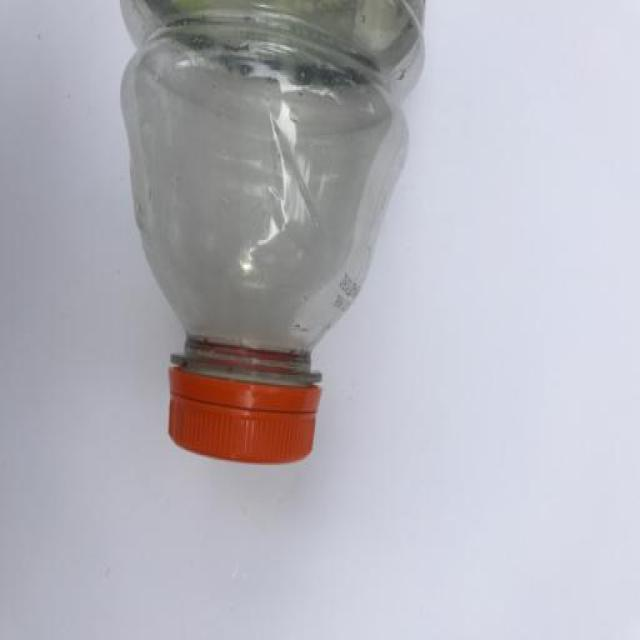plastic: (112, 0, 430, 470)
